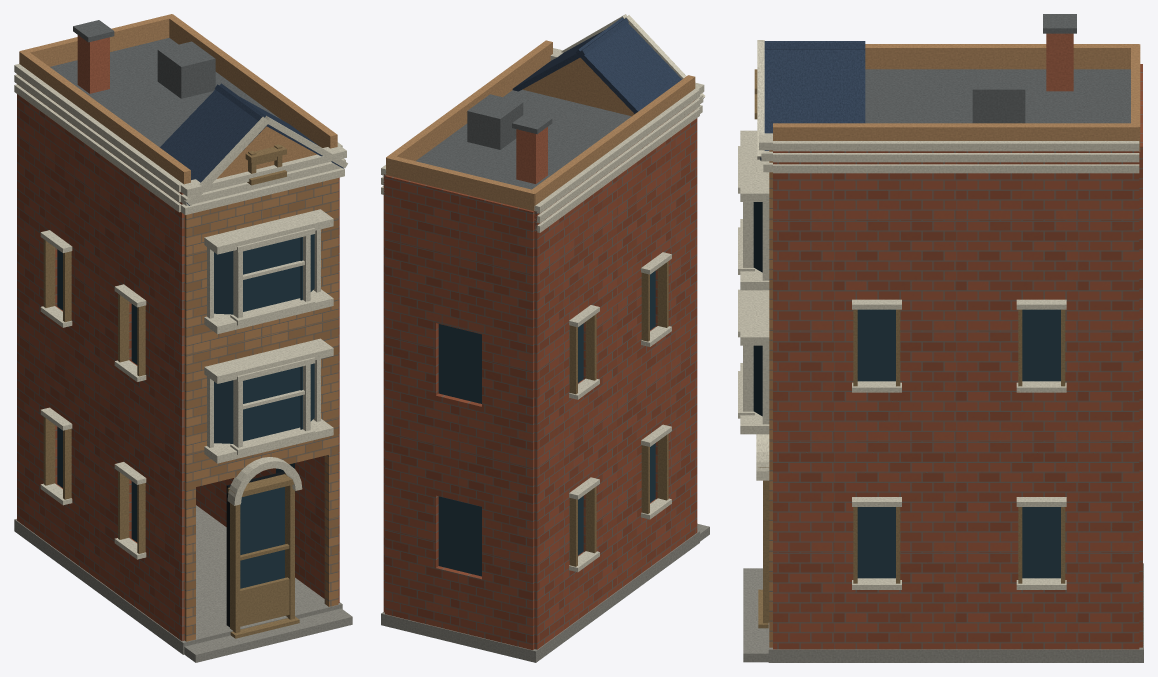
File: VICT24_lod2.glb
3 renders of one model, left to right at view 1: azimuth 30°, elevation 25°; view 2: azimuth 150°, elevation 25°; view 3: azimuth 270°, elevation 25°, orthographic. The views are drawn at different scales.
Parts seen in each view (by area): view 1: VICT24_LOD2; view 2: VICT24_LOD2; view 3: VICT24_LOD2.
Part boxes in pixels (x1,y1,x2,y2): VICT24_LOD2: [14, 14, 352, 662]; VICT24_LOD2: [381, 14, 709, 662]; VICT24_LOD2: [738, 14, 1143, 662].
Bounding box in the file's own units: 3.71 × 10.46 × 6.65.
Materials: 11 (9 with a texture image).
